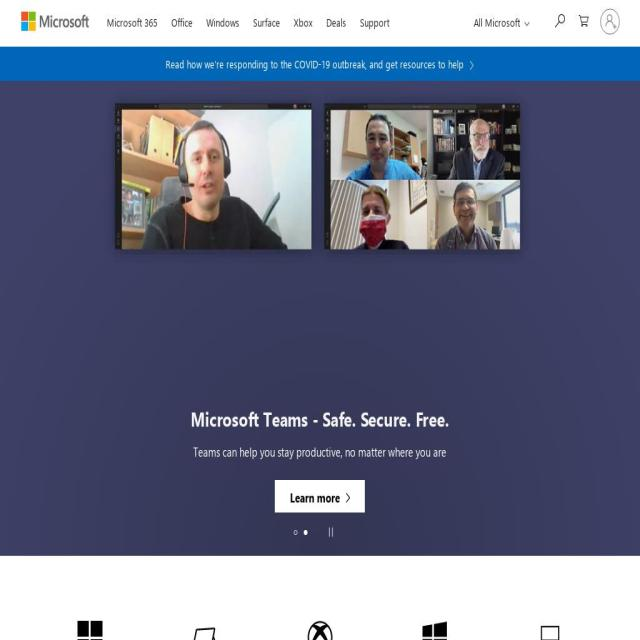button: (0, 47, 640, 81), (33, 609, 148, 640), (148, 609, 263, 640), (263, 609, 378, 640), (378, 609, 493, 640), (493, 609, 608, 640), (275, 480, 366, 513), (464, 1, 533, 43), (101, 1, 163, 41), (201, 1, 245, 41), (354, 1, 395, 41), (248, 1, 286, 41), (166, 1, 198, 41), (321, 1, 352, 41), (288, 1, 318, 41), (548, 2, 571, 38), (579, 0, 589, 39)
heading: (179, 407, 462, 431)
image: (0, 75, 636, 556), (78, 621, 103, 640), (193, 621, 218, 640), (308, 621, 333, 640), (423, 621, 448, 640), (538, 621, 563, 640)
text: (0, 515, 640, 550), (179, 443, 462, 461), (165, 57, 464, 71), (290, 490, 341, 506), (474, 15, 520, 29)
